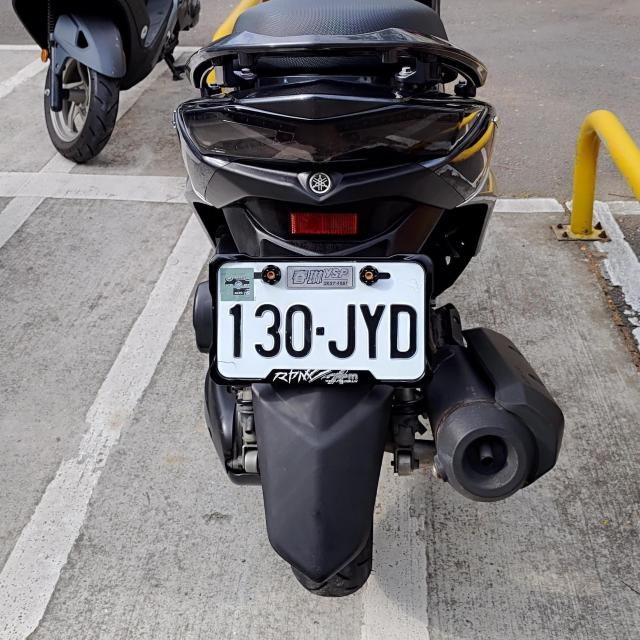W: (215, 258, 426, 385)
